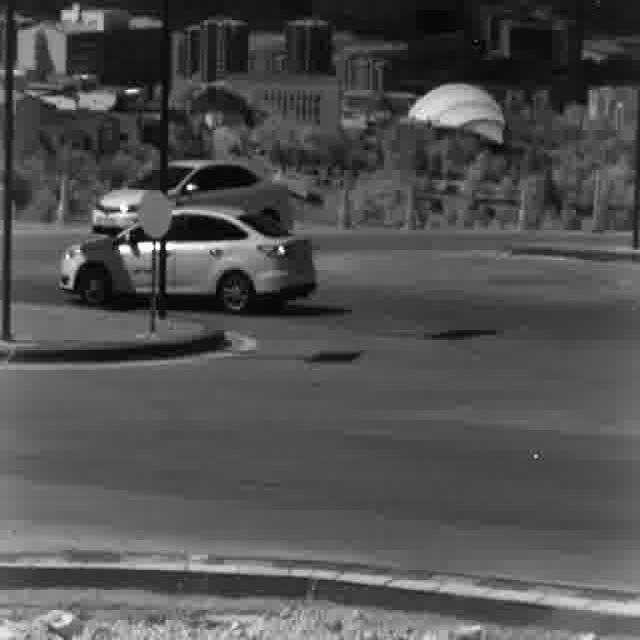Car: (58, 208, 316, 318), (91, 163, 289, 239)
